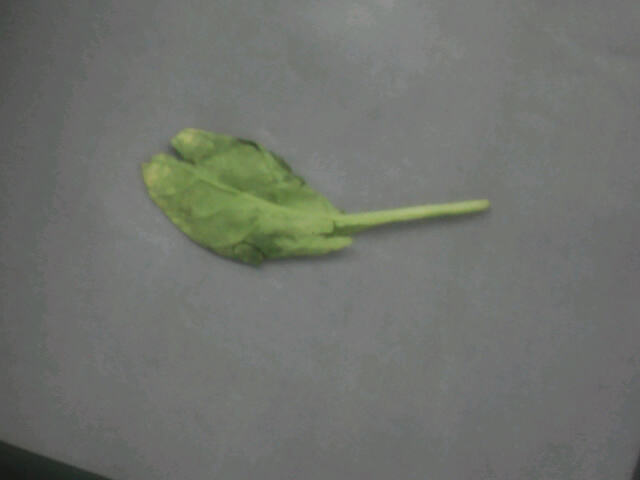yellow: (123, 104, 455, 289)
